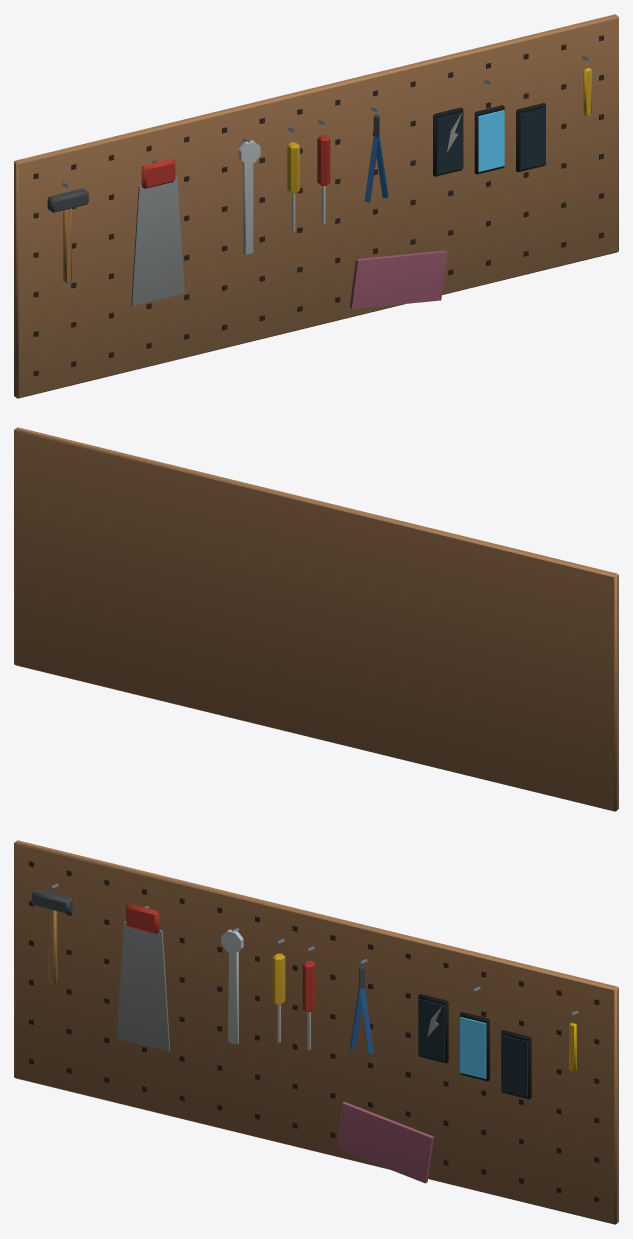
File: 92_panneau_perfore.fbx
3 views of the same model, one above another, from view 1: azimuth 30°, elevation 25°; view 2: azimuth 150°, elevation 25°; view 3: azimuth 330°, elevation 25° (orthographic).
Parts seen in each view (by area): view 1: Panneau, Outils; view 2: Panneau; view 3: Panneau, Outils.
Boxes of the visible parts, left/top/right/bottom form: Panneau: left=14, top=14, right=618, bottom=398; Outils: left=47, top=55, right=591, bottom=308; Panneau: left=14, top=427, right=618, bottom=811; Panneau: left=14, top=840, right=618, bottom=1224; Outils: left=32, top=883, right=578, bottom=1183.
Size of the model in its own units: 2.24 by 0.84 by 0.084.
Materials: 1 (1 with a texture image).
